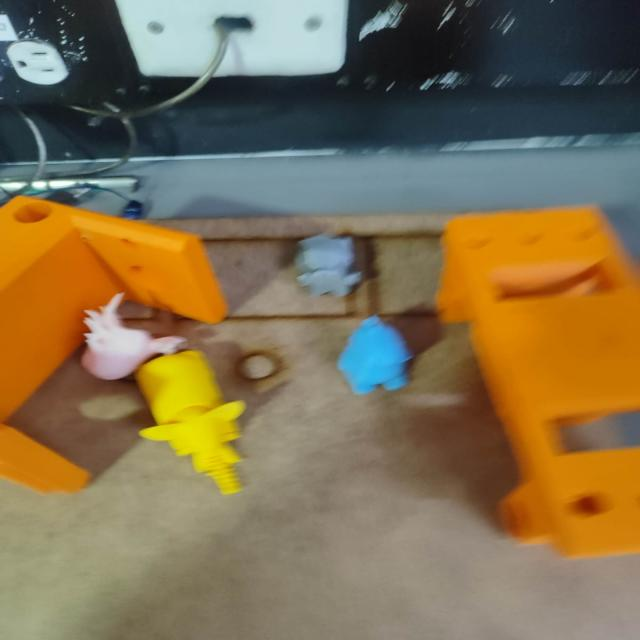DINO: (320, 307, 432, 405)
